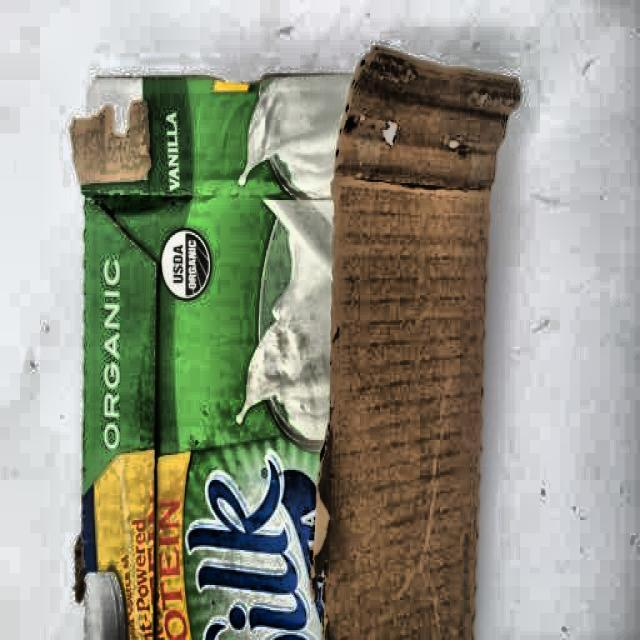cardboard: (69, 44, 522, 638)
